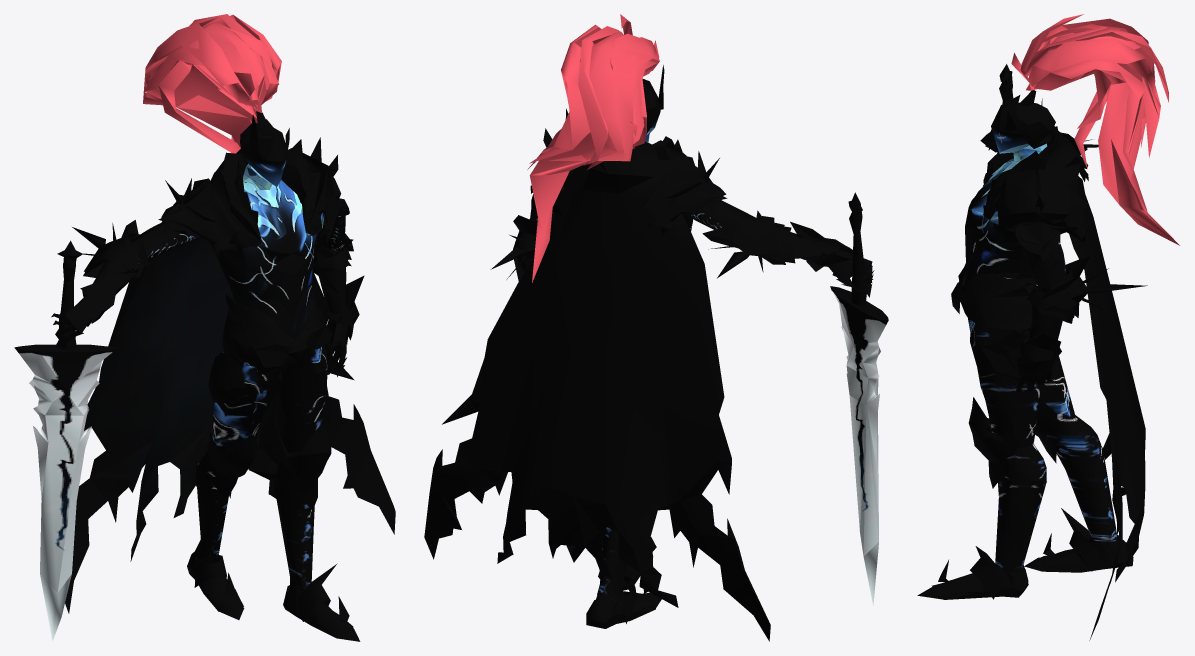
The model's file is igris_solo_leveling.glb.
The picture shows the model from 3 angles, left to right: view 1: azimuth 30°, elevation 25°; view 2: azimuth 150°, elevation 25°; view 3: azimuth 270°, elevation 25°; orthographic projection. The views are drawn at different scales.
Visible parts, largest first — view 1: Igris; view 2: Igris; view 3: Igris.
Boxes of the visible parts, x1,y1,x2,y2 form: Igris: (14,14,395,641); Igris: (424,14,888,641); Igris: (917,14,1179,640).
Bounding box in the file's own units: 2.15 × 2.84 × 1.22.
Materials: 1 (1 with a texture image).
